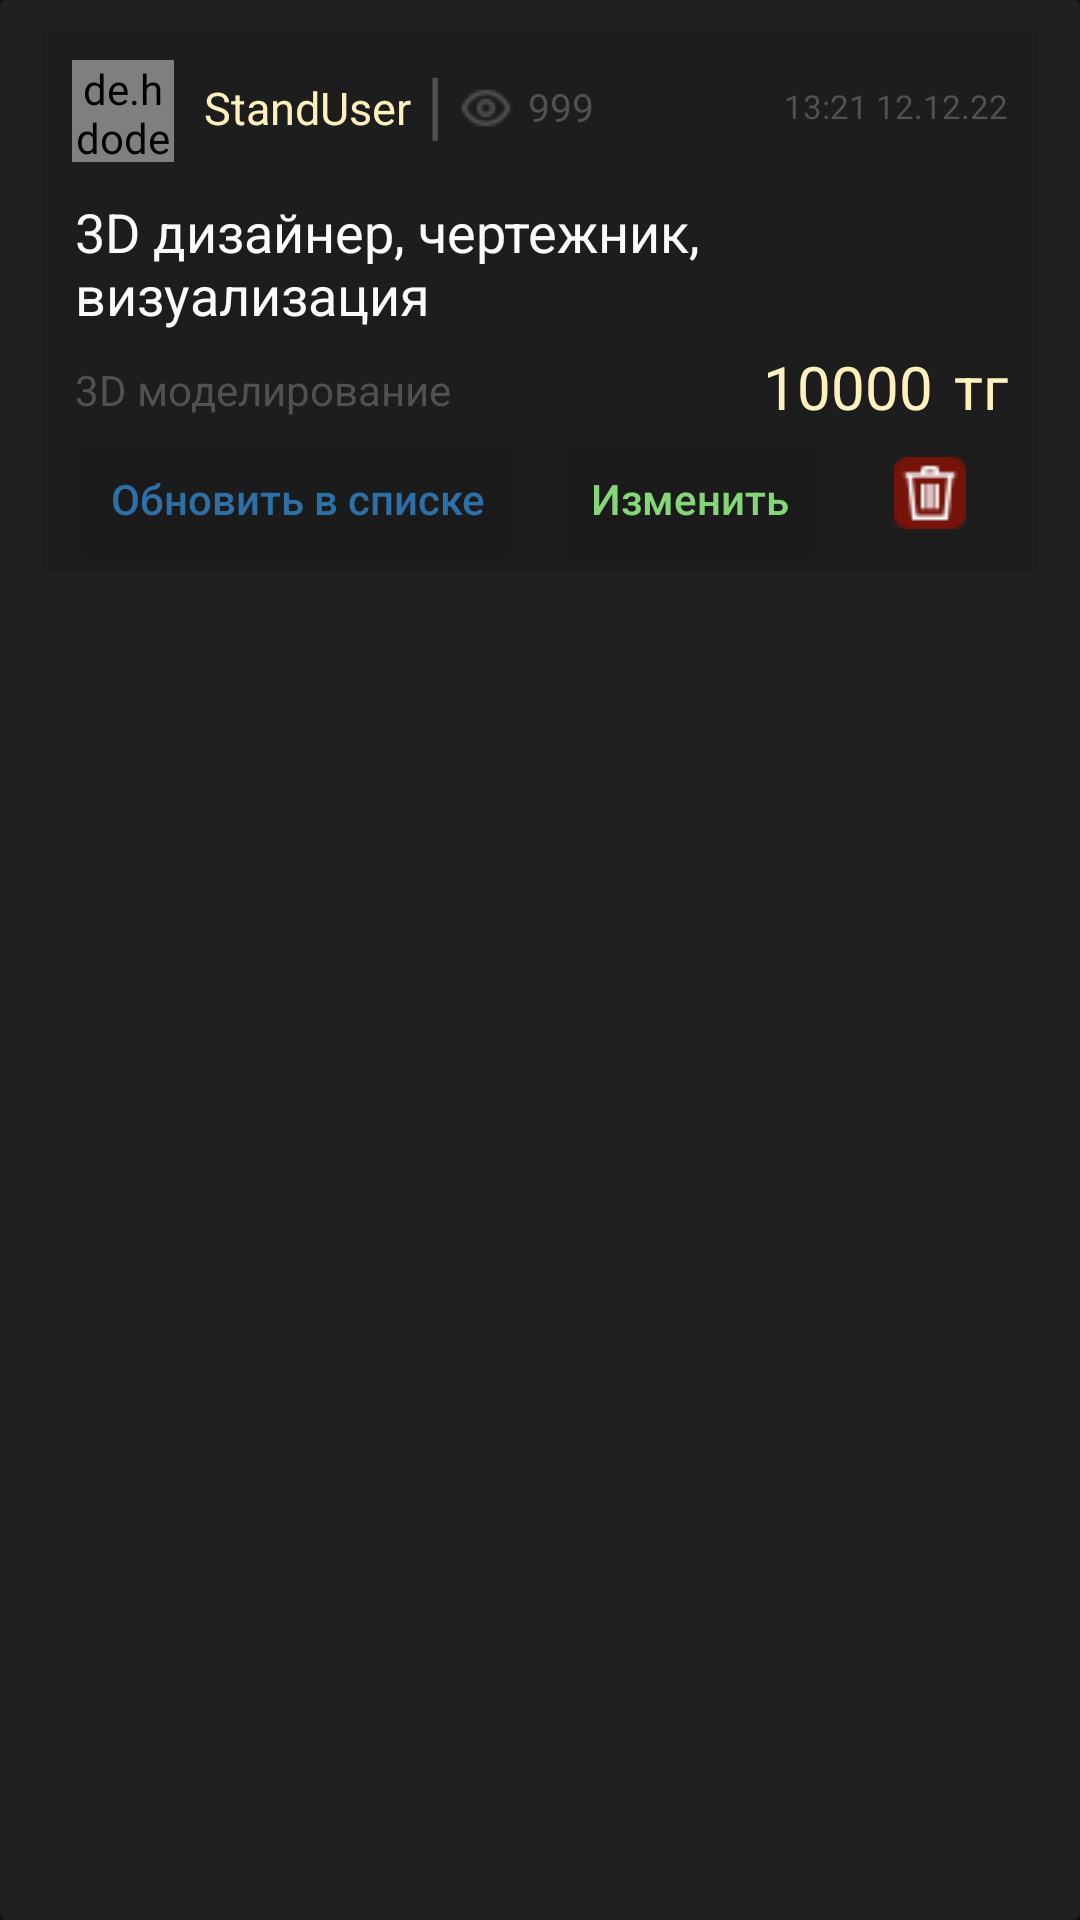

Point at icon controls on the screen. Image size 1080w x 1920h, points as [x,y].
delete: [930,493]
open eye: [486,108]
